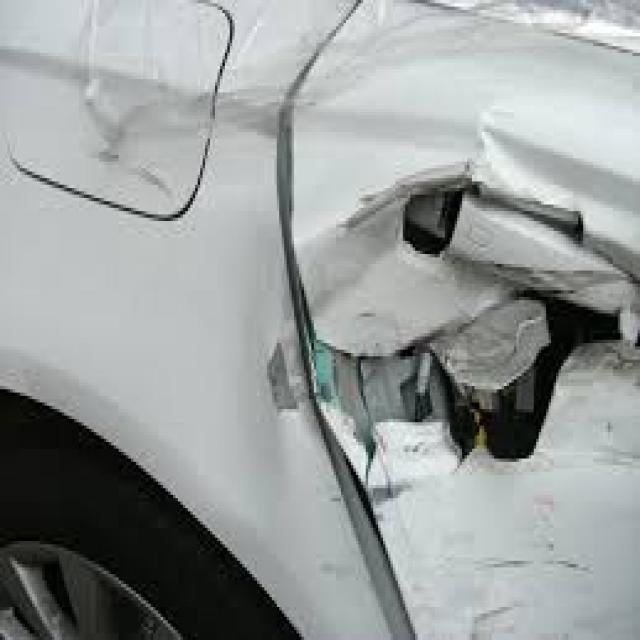moderate: (234, 74, 640, 536)
